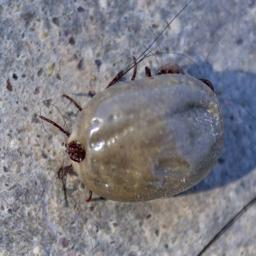Rhipicephalus sanguineus: (38, 57, 227, 208)
